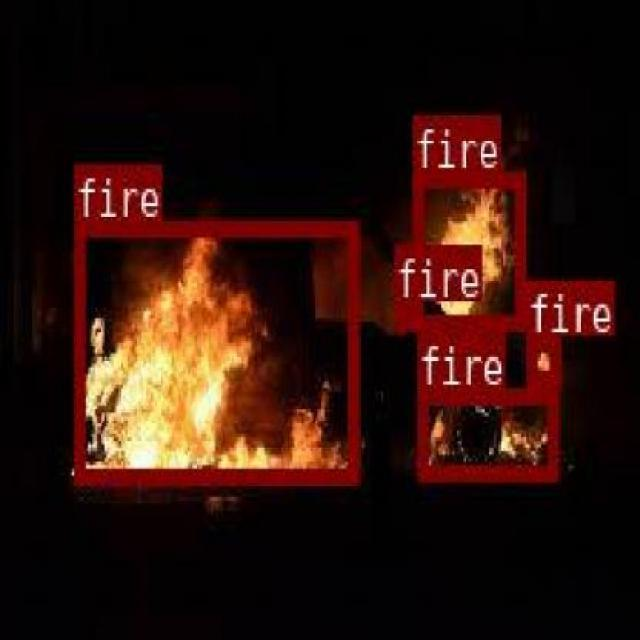fire: (72, 220, 356, 480), (412, 168, 523, 326), (416, 386, 556, 477), (526, 336, 560, 384), (393, 298, 413, 329)
